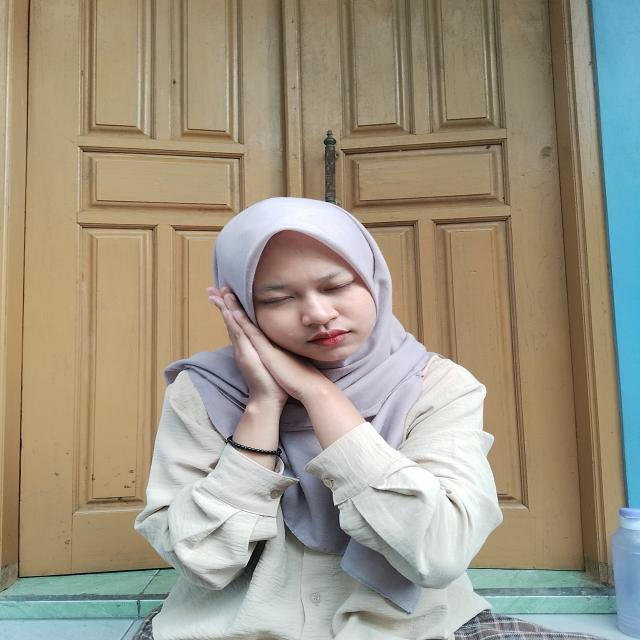tidur: (199, 281, 356, 454)
